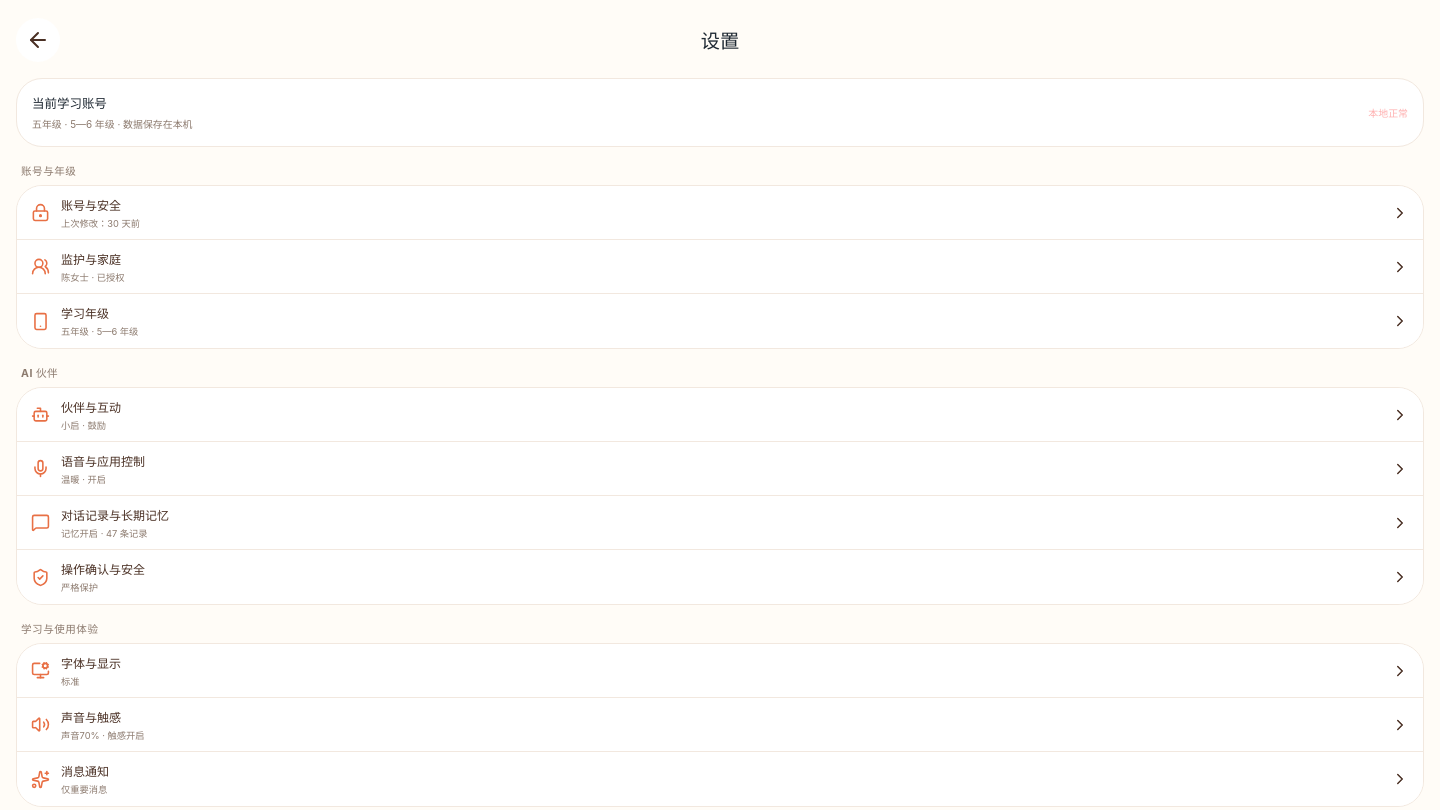
settings page › changes the primary grade directly without a stage confirmation
Click the button "学习年级 五年级 · 5—6 年级" at (85, 314), box [17,294,1423,348]
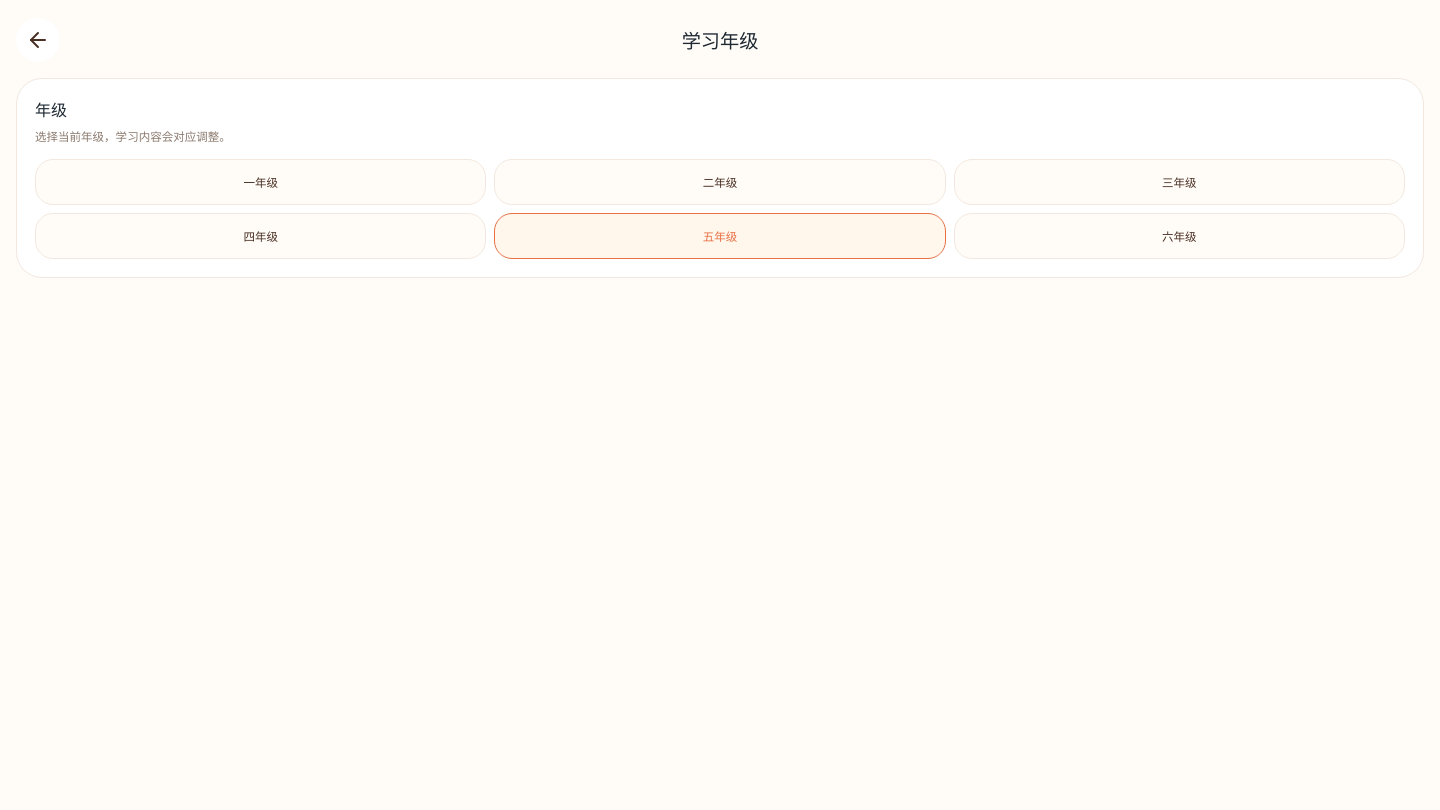
Click the button "二年级" at (720, 182), box [494,159,946,205]
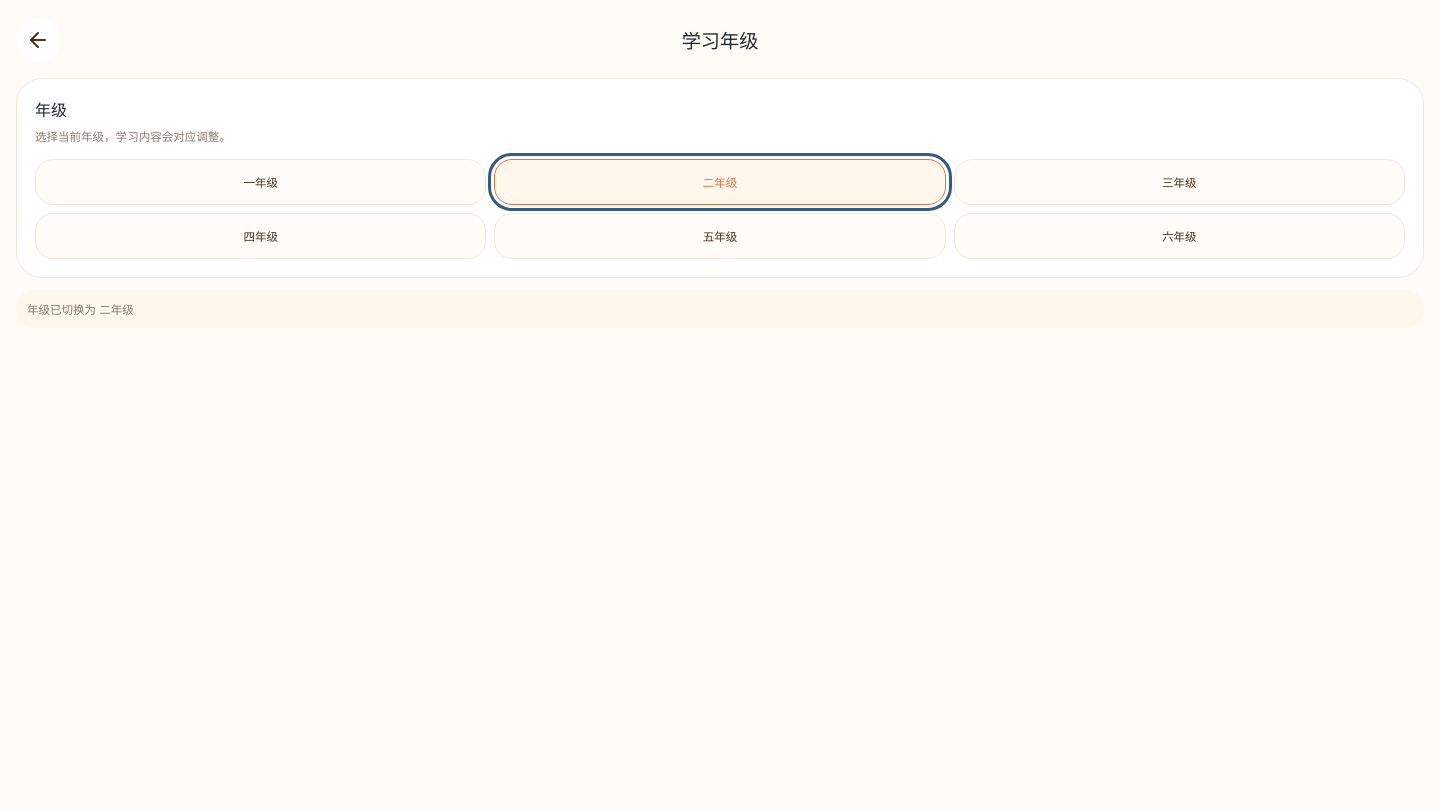
Check: the message reads "年级已切换为 二年级", box [27,302,134,316]
